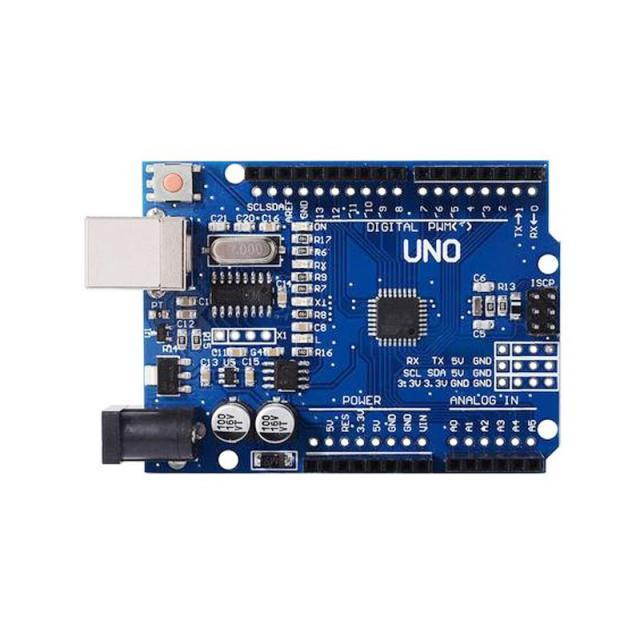Arduino: (56, 133, 600, 507)
